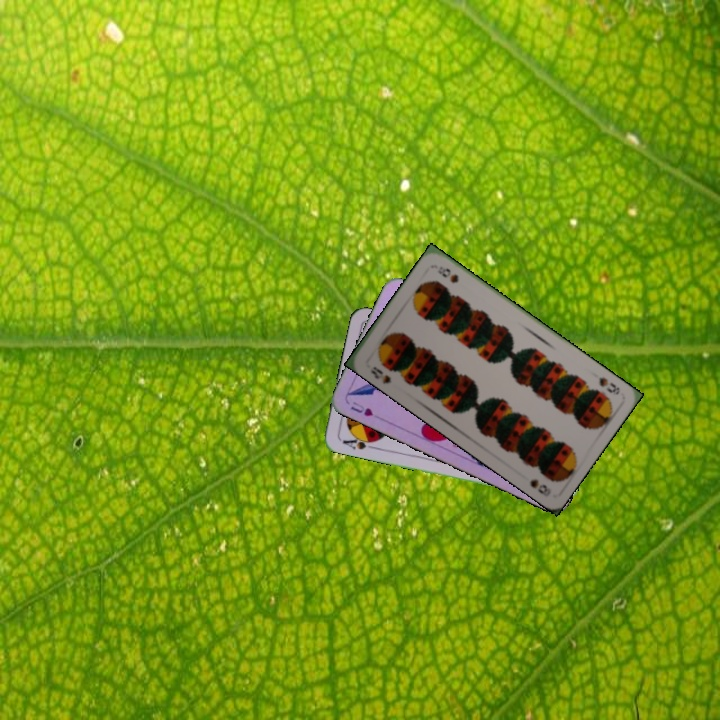HU: (346, 397, 376, 419)
S8: (594, 373, 623, 398), (367, 362, 394, 387)
SA: (339, 431, 379, 452)
